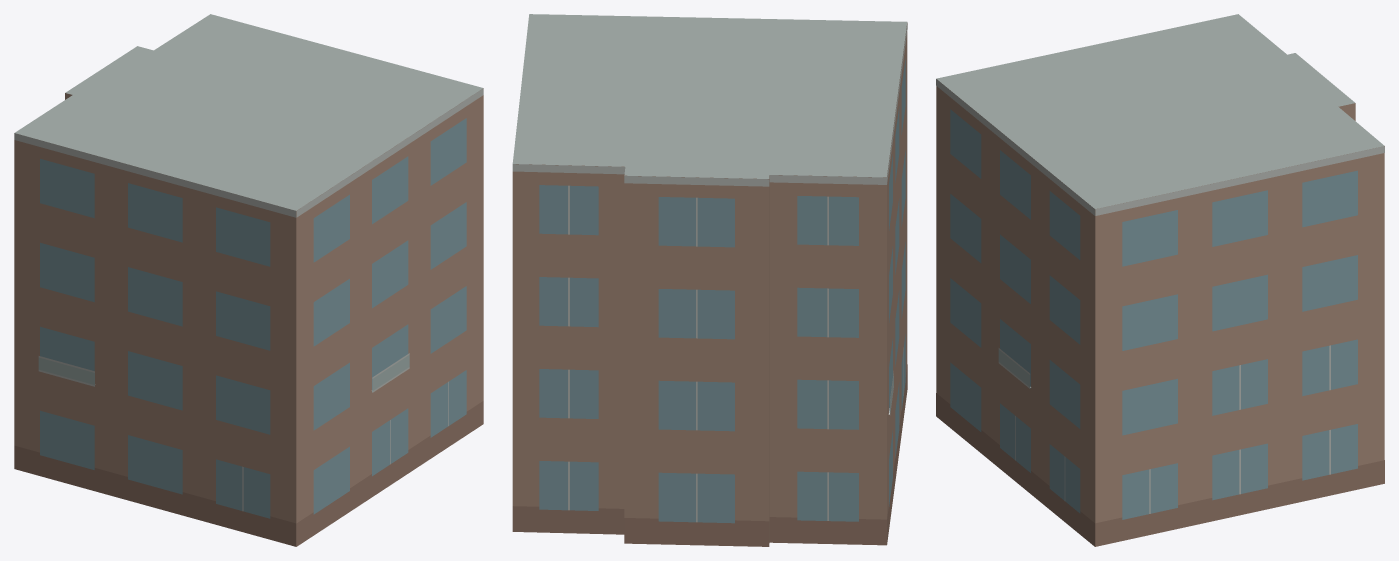
File: survey-upis-32527375.glb
3 views of the same model, side by side, from view 1: azimuth 30°, elevation 25°; view 2: azimuth 150°, elevation 25°; view 3: azimuth 270°, elevation 25° (orthographic). The views are drawn at different scales.
Parts seen in each view (by area): view 1: survey-upis-32527375.tmp; view 2: survey-upis-32527375.tmp; view 3: survey-upis-32527375.tmp.
Part boxes in pixels (left/top/right/bottom): survey-upis-32527375.tmp: left=14, top=14, right=483, bottom=546; survey-upis-32527375.tmp: left=512, top=14, right=907, bottom=546; survey-upis-32527375.tmp: left=936, top=14, right=1384, bottom=546.
Size of the model in its own units: 14.7 by 11.85 by 14.28.
